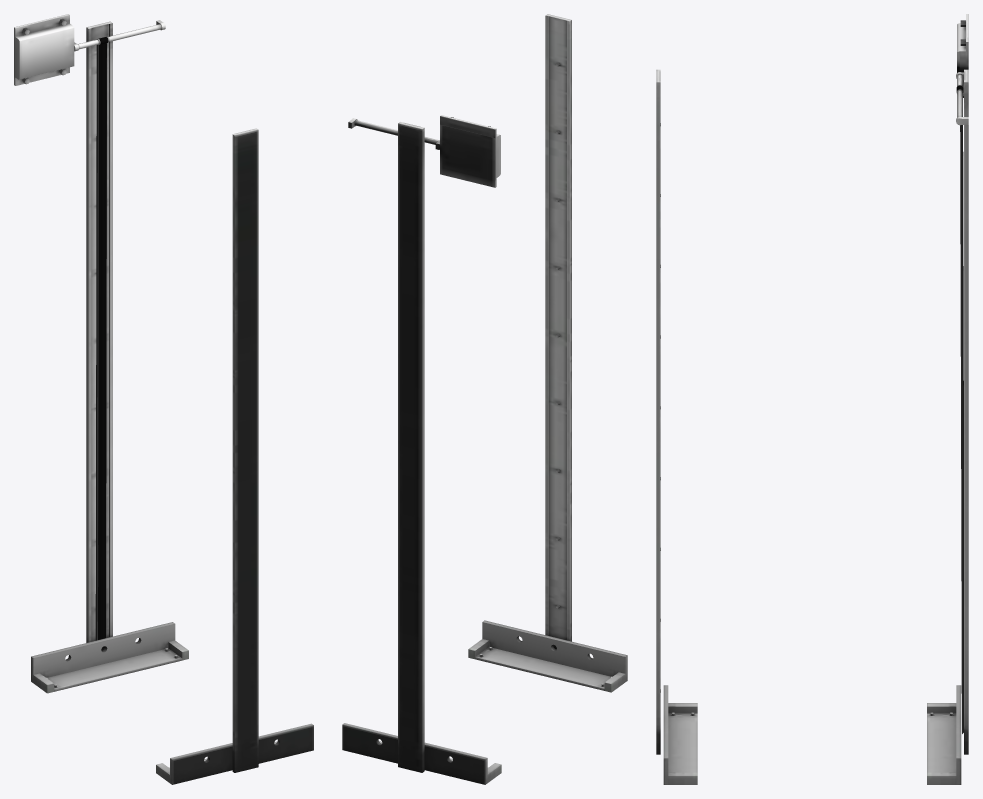
3 views of the same model, side by side, from view 1: azimuth 30°, elevation 25°; view 2: azimuth 150°, elevation 25°; view 3: azimuth 270°, elevation 25° (orthographic). The views are drawn at different scales.
Visible parts, largest first — view 1: body0_model0_lod0_mesh0; view 2: body0_model0_lod0_mesh0; view 3: body0_model0_lod0_mesh0.
Boxes of the visible parts, box(x1,y1,x2,y2) form: body0_model0_lod0_mesh0: box(14, 14, 313, 784); body0_model0_lod0_mesh0: box(342, 14, 627, 784); body0_model0_lod0_mesh0: box(656, 14, 968, 784).
Size of the model in its own units: 77.49 by 312 by 128.
1 material, 1 textured.
